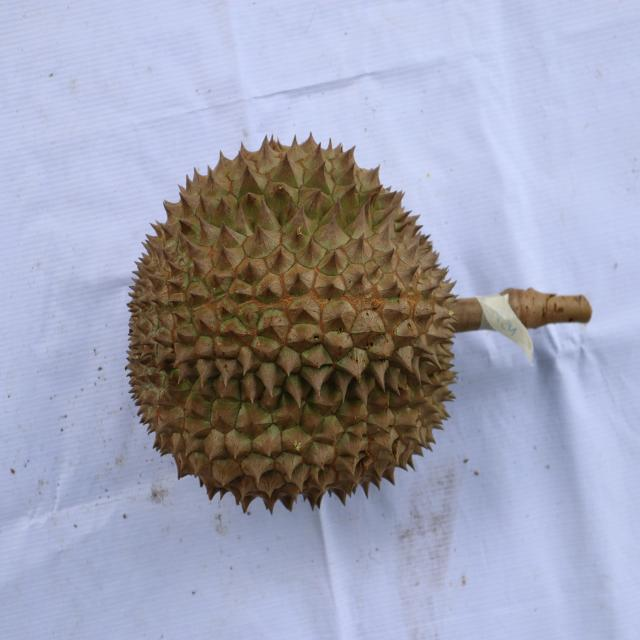mature: (124, 132, 460, 514)
